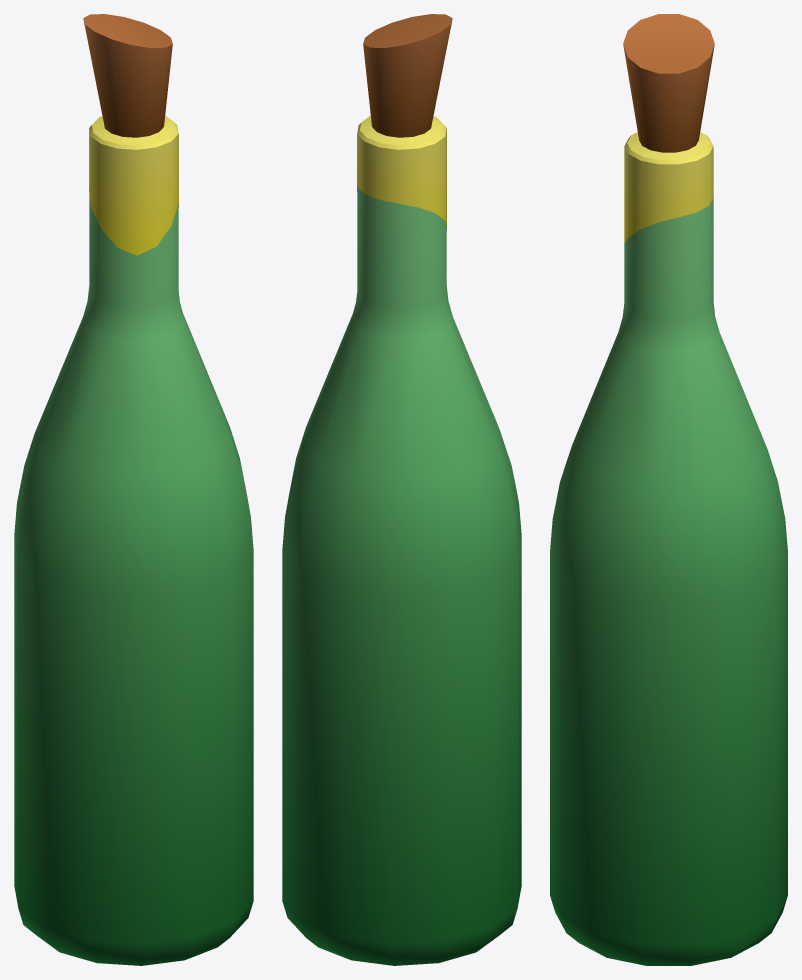
The model's file is Champagne Bottle.glb.
3 views of the same model, side by side, from view 1: azimuth 30°, elevation 25°; view 2: azimuth 150°, elevation 25°; view 3: azimuth 270°, elevation 25° (orthographic).
Visible parts, largest first — view 1: Champagne_Bottle; view 2: Champagne_Bottle; view 3: Champagne_Bottle.
Part boxes in pixels (box(x1,y1,x2,y2)): Champagne_Bottle: box(14, 14, 253, 965); Champagne_Bottle: box(282, 14, 521, 965); Champagne_Bottle: box(550, 14, 787, 965).
Size of the model in its own units: 0.6236 by 2.65 by 0.6397.
1 material, 1 textured.
